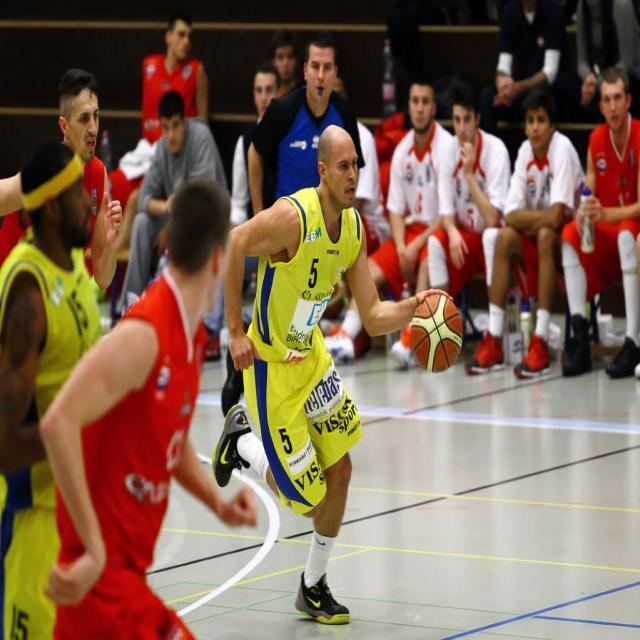rim: (413, 296, 463, 372)
